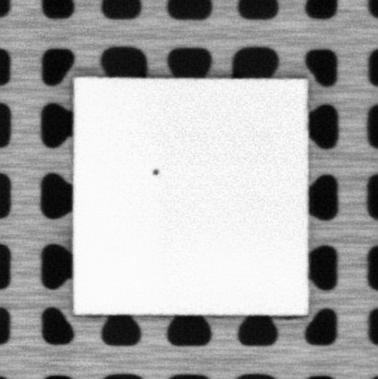DIE_INK: (149, 166, 161, 178)
